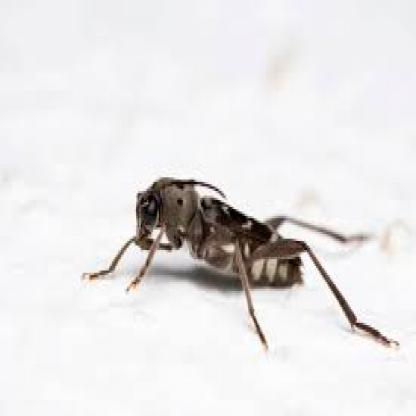sawfly: (81, 161, 405, 358)
